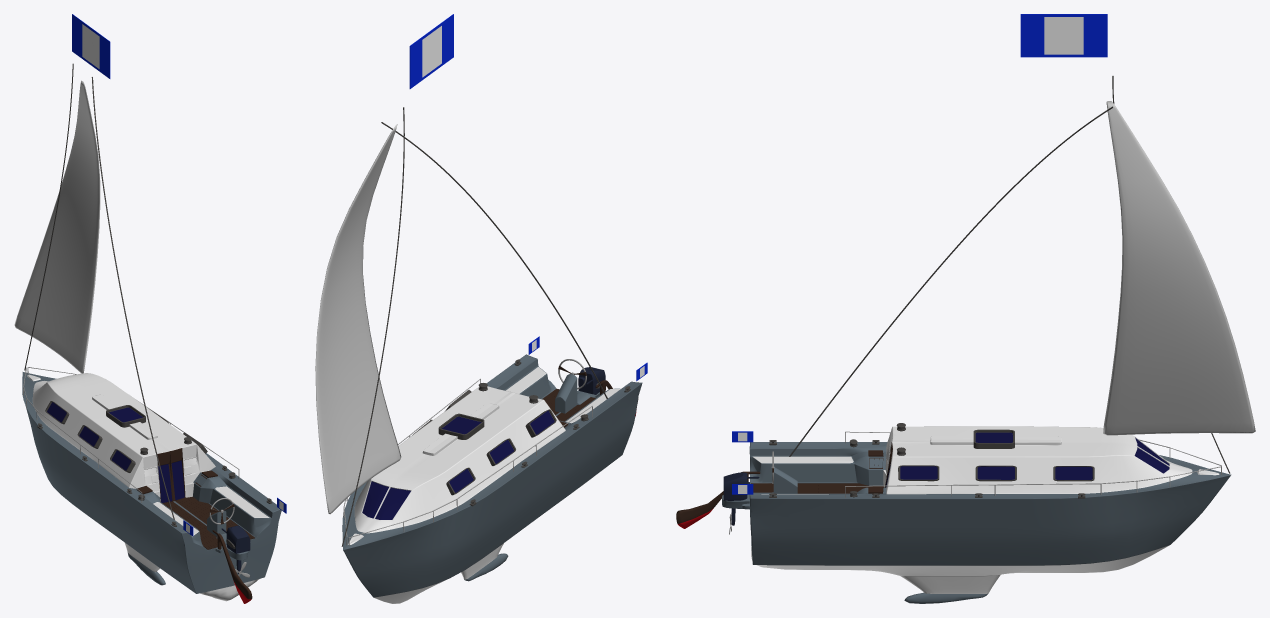
The model's file is kuba_boat_2_base.glb.
3 views of the same model, side by side, from view 1: azimuth 30°, elevation 25°; view 2: azimuth 150°, elevation 25°; view 3: azimuth 270°, elevation 25° (orthographic). The views are drawn at different scales.
Visible parts, largest first — view 1: Pokład.001, Maszt.001, Podloga, Okna, Flagi, NurbsPath.001, Silnik, Okna.001, Flagi.001, ster, Relingi, NurbsPath (+1 smaller); view 2: Pokład.001, Maszt.001, Okna, Flagi, Okna.001, NurbsPath, Ster2Podstawa, Flagi.001, Relingi, NurbsPath.001, Silnik, Podloga; view 3: Pokład.001, Maszt.001, Flagi, Okna, Flagi.002, Podloga, NurbsPath.001, Relingi, Okna.001.
Part boxes in pixels (<box>): Pokład.001: <box>22,372,281,601</box>; Maszt.001: <box>14,80,100,373</box>; Podloga: <box>163,496,254,549</box>; Okna: <box>45,401,207,472</box>; Flagi: <box>72,14,286,536</box>; NurbsPath.001: <box>91,77,174,519</box>; Silnik: <box>221,525,250,573</box>; Okna.001: <box>106,405,145,427</box>; Flagi.001: <box>82,24,99,68</box>; ster: <box>212,530,252,603</box>; Relingi: <box>23,367,239,502</box>; NurbsPath: <box>24,63,73,370</box>; Pokład.001: <box>342,354,642,603</box>; Maszt.001: <box>315,124,401,514</box>; Okna: <box>412,390,556,495</box>; Flagi: <box>409,14,647,381</box>; Okna.001: <box>438,413,484,439</box>; NurbsPath: <box>341,107,404,546</box>; Ster2Podstawa: <box>555,374,590,413</box>; Flagi.001: <box>422,26,441,77</box>; Relingi: <box>343,378,592,546</box>; NurbsPath.001: <box>381,122,607,398</box>; Silnik: <box>578,367,605,394</box>; Podloga: <box>542,388,595,421</box>; Pokład.001: <box>722,426,1231,603</box>; Maszt.001: <box>1103,101,1255,435</box>; Flagi: <box>732,14,1107,494</box>; Okna: <box>898,465,1094,481</box>; Flagi.002: <box>1044,17,1083,54</box>; Podloga: <box>751,483,883,493</box>; NurbsPath.001: <box>789,106,1112,456</box>; Relingi: <box>845,431,1221,497</box>; Okna.001: <box>973,429,1014,448</box>.
Bounding box in the file's own units: 2.38 × 11.47 × 10.27.
